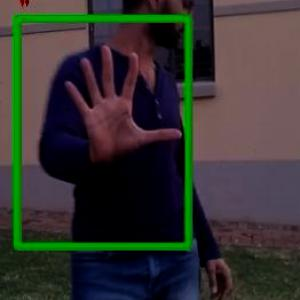follow_hand: (59, 40, 186, 167)
